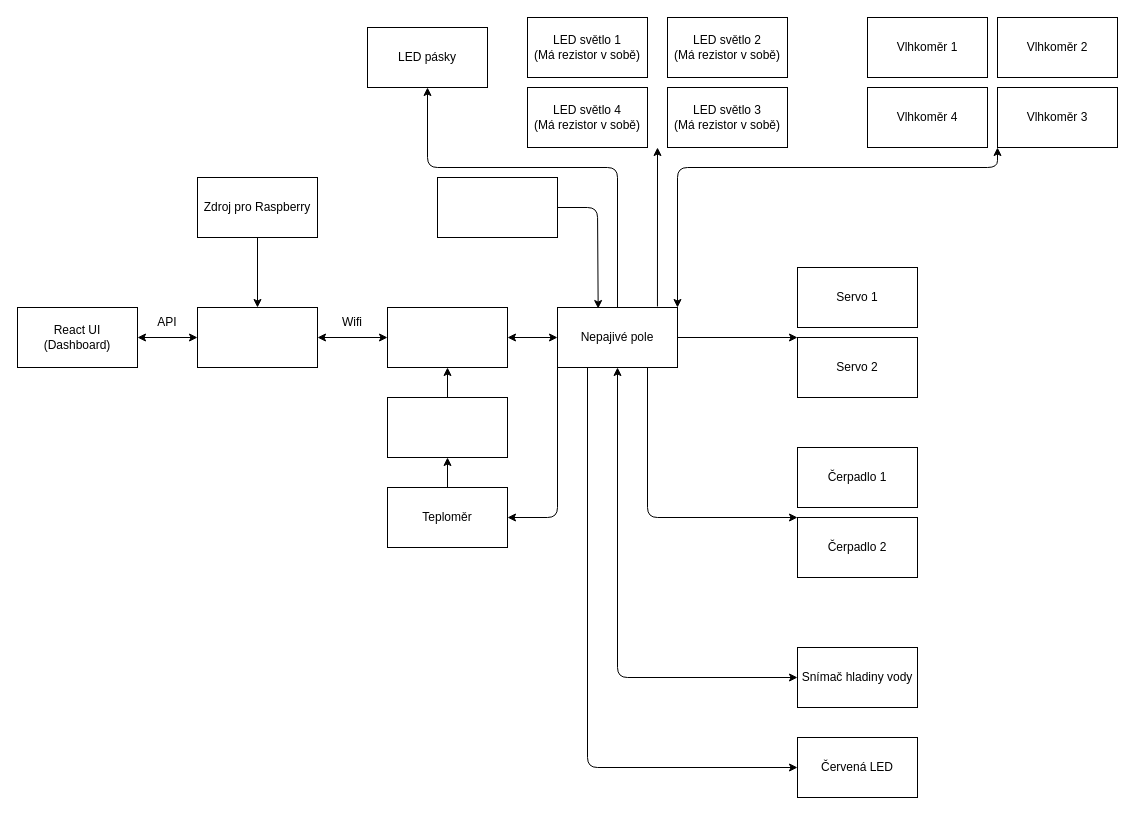
The diagram is 1135 pixels wide and 815 high, and some of its shapes have lost their labels. The shapes that lost their labels are listed below. From the top down, each one's box as (x1, y1, x2, y2) in pixels, then its label:
(436, 176, 558, 238): Externí zdroj
(196, 306, 318, 368): Raspberry (Home assistant)
(386, 306, 508, 368): ESP32 (ESP Home)
(386, 396, 508, 458): LCD Display
